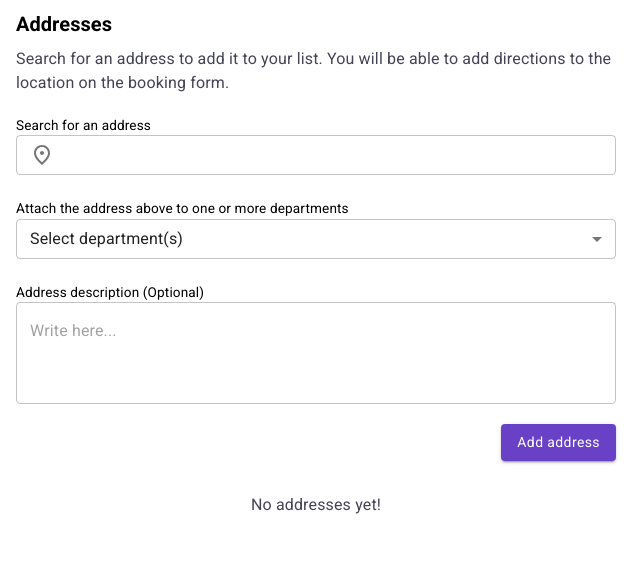
Test case: addresses › form validates required fields
The image size is (639, 570).
Click the button with test id "button-submit" at [559, 442], box [501,424,616,461]
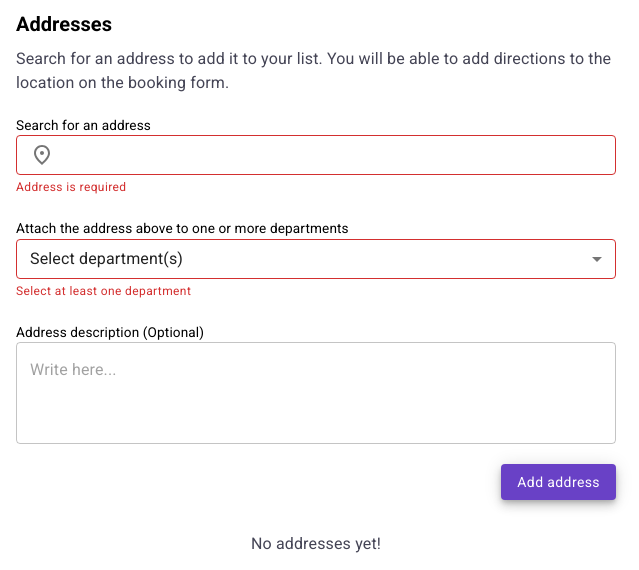
Expected: the text "Address is required" is shown, [16,180,126,194]
Expected: the text "Select at least one department" is shown, [16,284,191,298]
